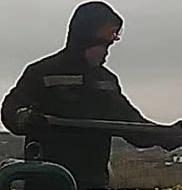gloves: (14, 108, 51, 134)
helmet: (92, 22, 124, 45)
vest: (24, 63, 126, 176)
